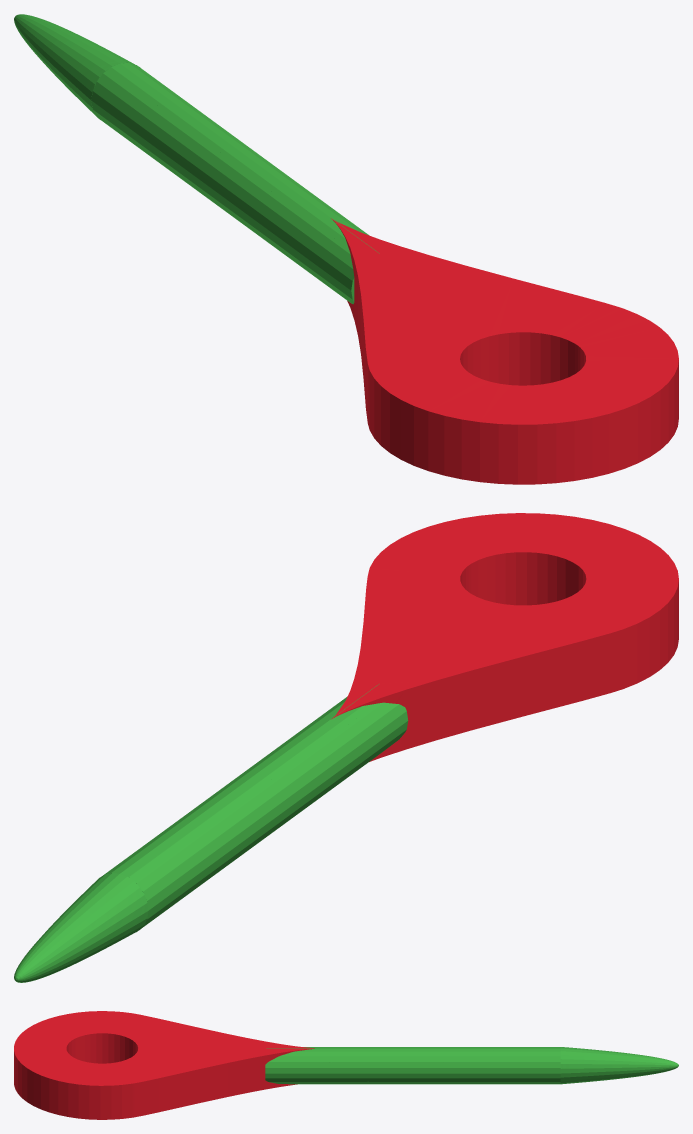
Rendered from tinker.obj.
3 renders of one model, top to bottom at view 1: azimuth 30°, elevation 25°; view 2: azimuth 150°, elevation 25°; view 3: azimuth 270°, elevation 25°, orthographic. The views are drawn at different scales.
Parts seen in each view (by area): view 1: group_0_15277357, group_0_4634441; view 2: group_0_15277357, group_0_4634441; view 3: group_0_15277357, group_0_4634441.
Boxes of the visible parts, x1=… form: group_0_15277357: x1=331, y1=218, x2=678, y2=484; group_0_4634441: x1=14, y1=14, x2=379, y2=304; group_0_15277357: x1=331, y1=513, x2=678, y2=761; group_0_4634441: x1=14, y1=684, x2=408, y2=982; group_0_15277357: x1=14, y1=1011, x2=314, y2=1119; group_0_4634441: x1=265, y1=1047, x2=678, y2=1084.
Bounding box in the file's own units: 9.42 × 2 × 35.37.
